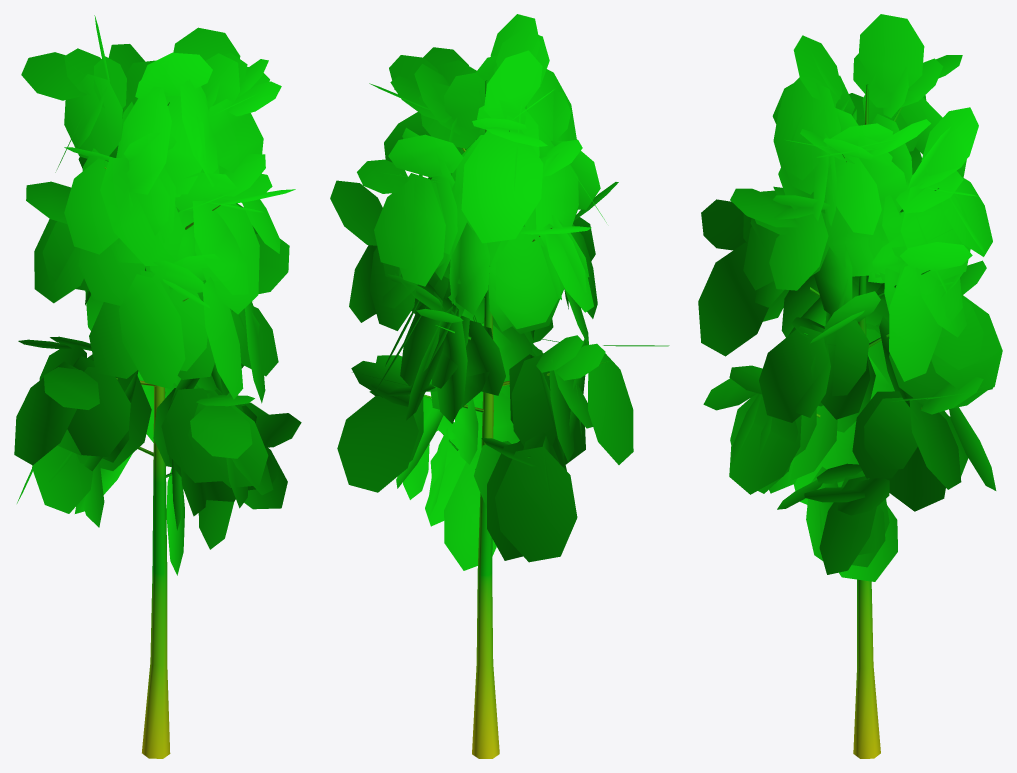
Rendered from tree_birch_b_lod1.glb.
The picture shows the model from 3 angles, left to right: view 1: azimuth 30°, elevation 25°; view 2: azimuth 150°, elevation 25°; view 3: azimuth 270°, elevation 25°; orthographic projection. The views are drawn at different scales.
Parts seen in each view (by area): view 1: tree_birch_b_lod1.1, tree_birch_b_lod1.0; view 2: tree_birch_b_lod1.1, tree_birch_b_lod1.0; view 3: tree_birch_b_lod1.1, tree_birch_b_lod1.0.
Boxes of the visible parts, <box> form: tree_birch_b_lod1.1: <box>14,15,301,575</box>; tree_birch_b_lod1.0: <box>104,102,232,758</box>; tree_birch_b_lod1.1: <box>330,14,669,570</box>; tree_birch_b_lod1.0: <box>399,80,609,758</box>; tree_birch_b_lod1.1: <box>698,14,1002,581</box>; tree_birch_b_lod1.0: <box>804,84,938,758</box>.
Size of the model in its own units: 5.8 by 15.03 by 5.79.
